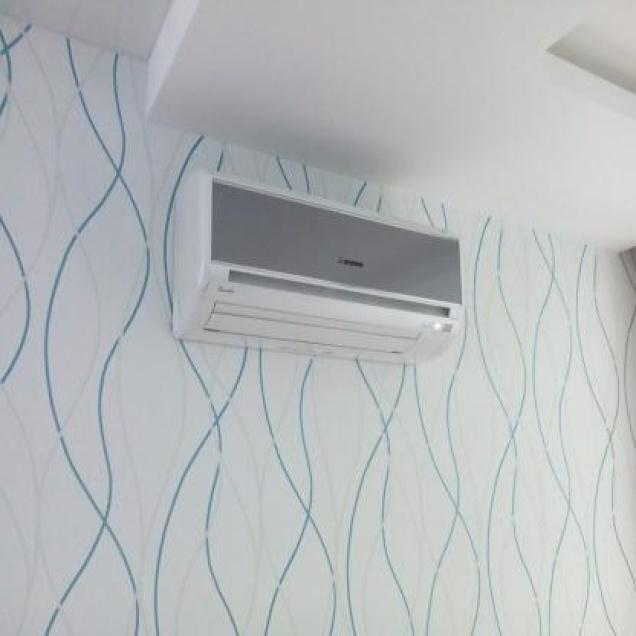AC: (171, 167, 463, 367)
